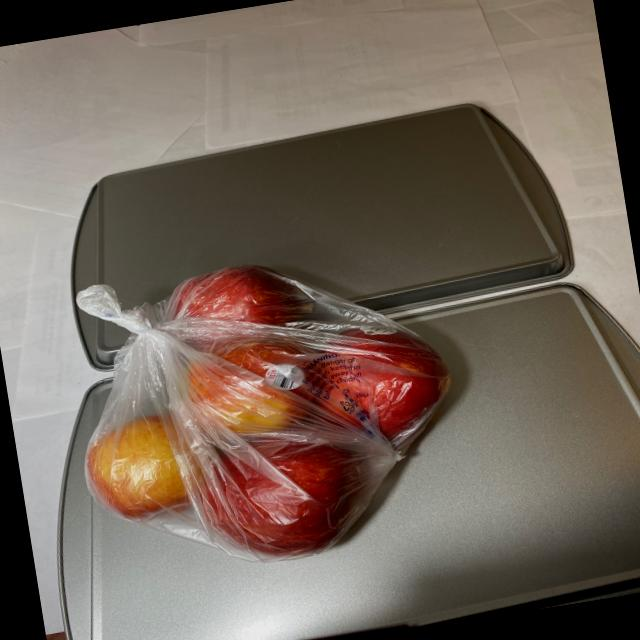apple: (48, 234, 485, 587)
